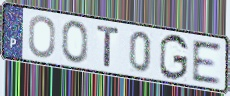0: (128, 30, 154, 75)
E: (191, 39, 222, 86)
G: (158, 33, 190, 82)
O: (27, 15, 57, 60), (60, 19, 89, 65)
T: (96, 24, 121, 70)
